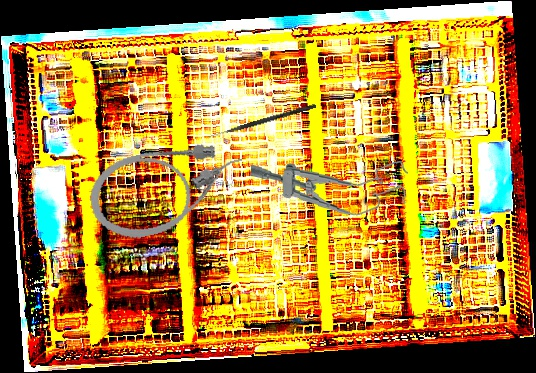Cannula: (82, 132, 255, 247)
Hook Surgical: (207, 102, 317, 141)
Speculum: (248, 152, 409, 219)
